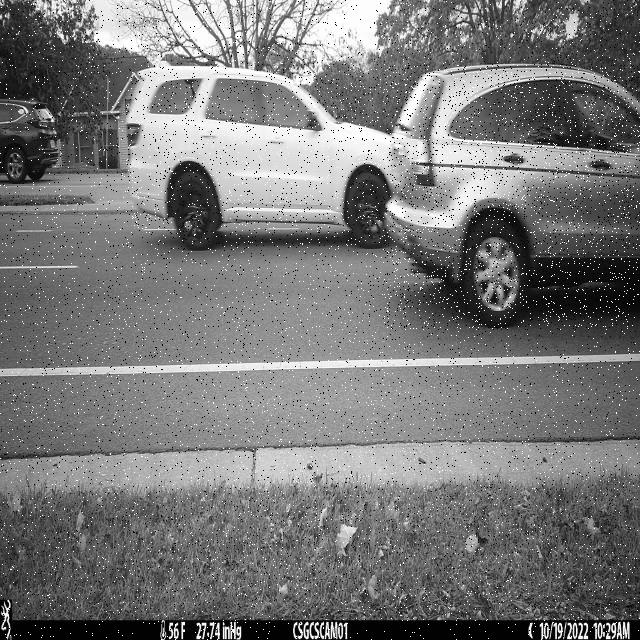SUV: (384, 64, 640, 330), (127, 67, 393, 250)
